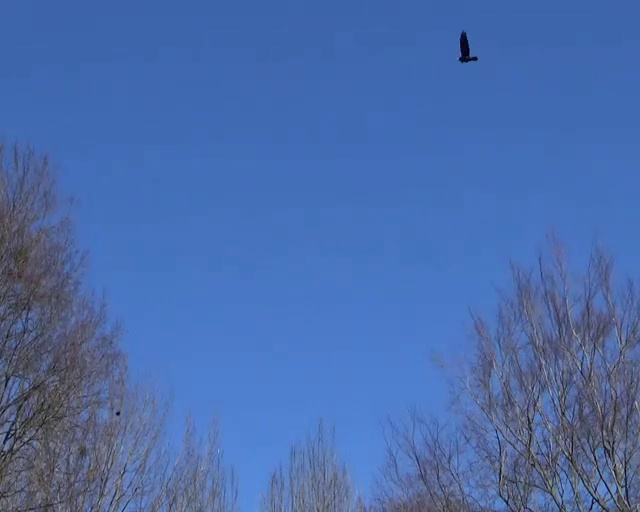BIRD: (458, 30, 477, 63)
